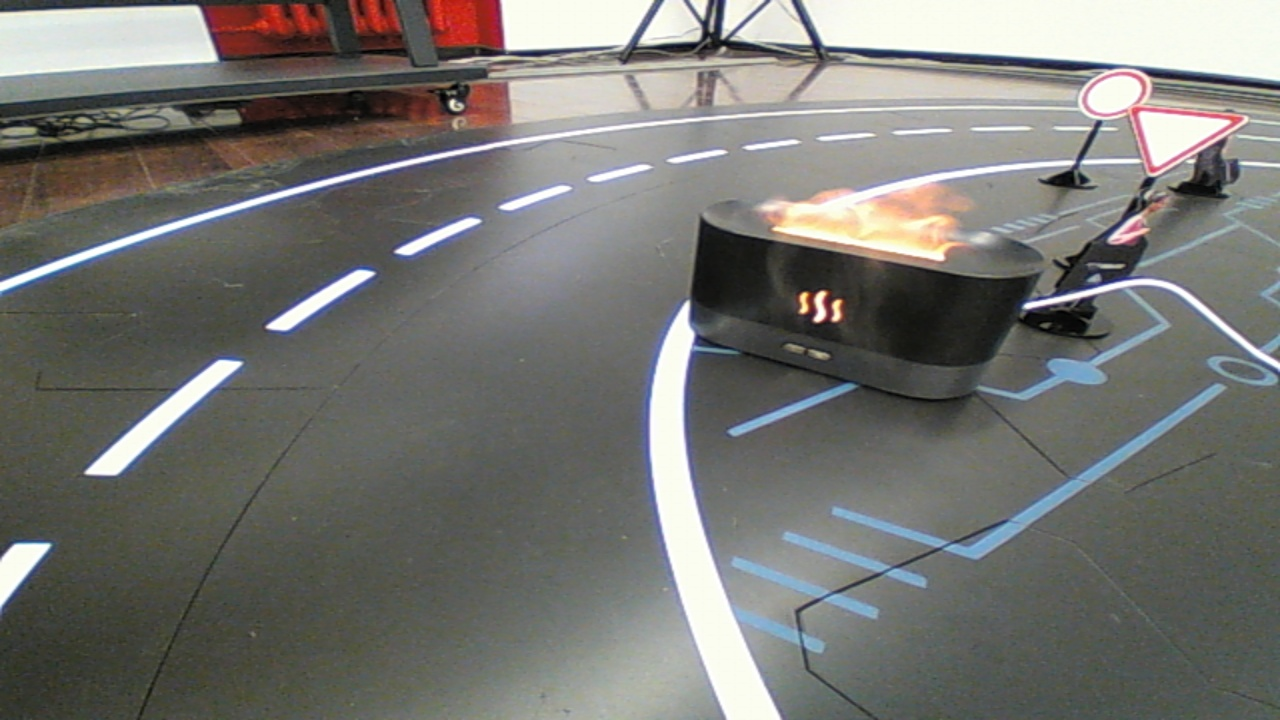Movement prohibition: (668, 181, 1062, 422)
